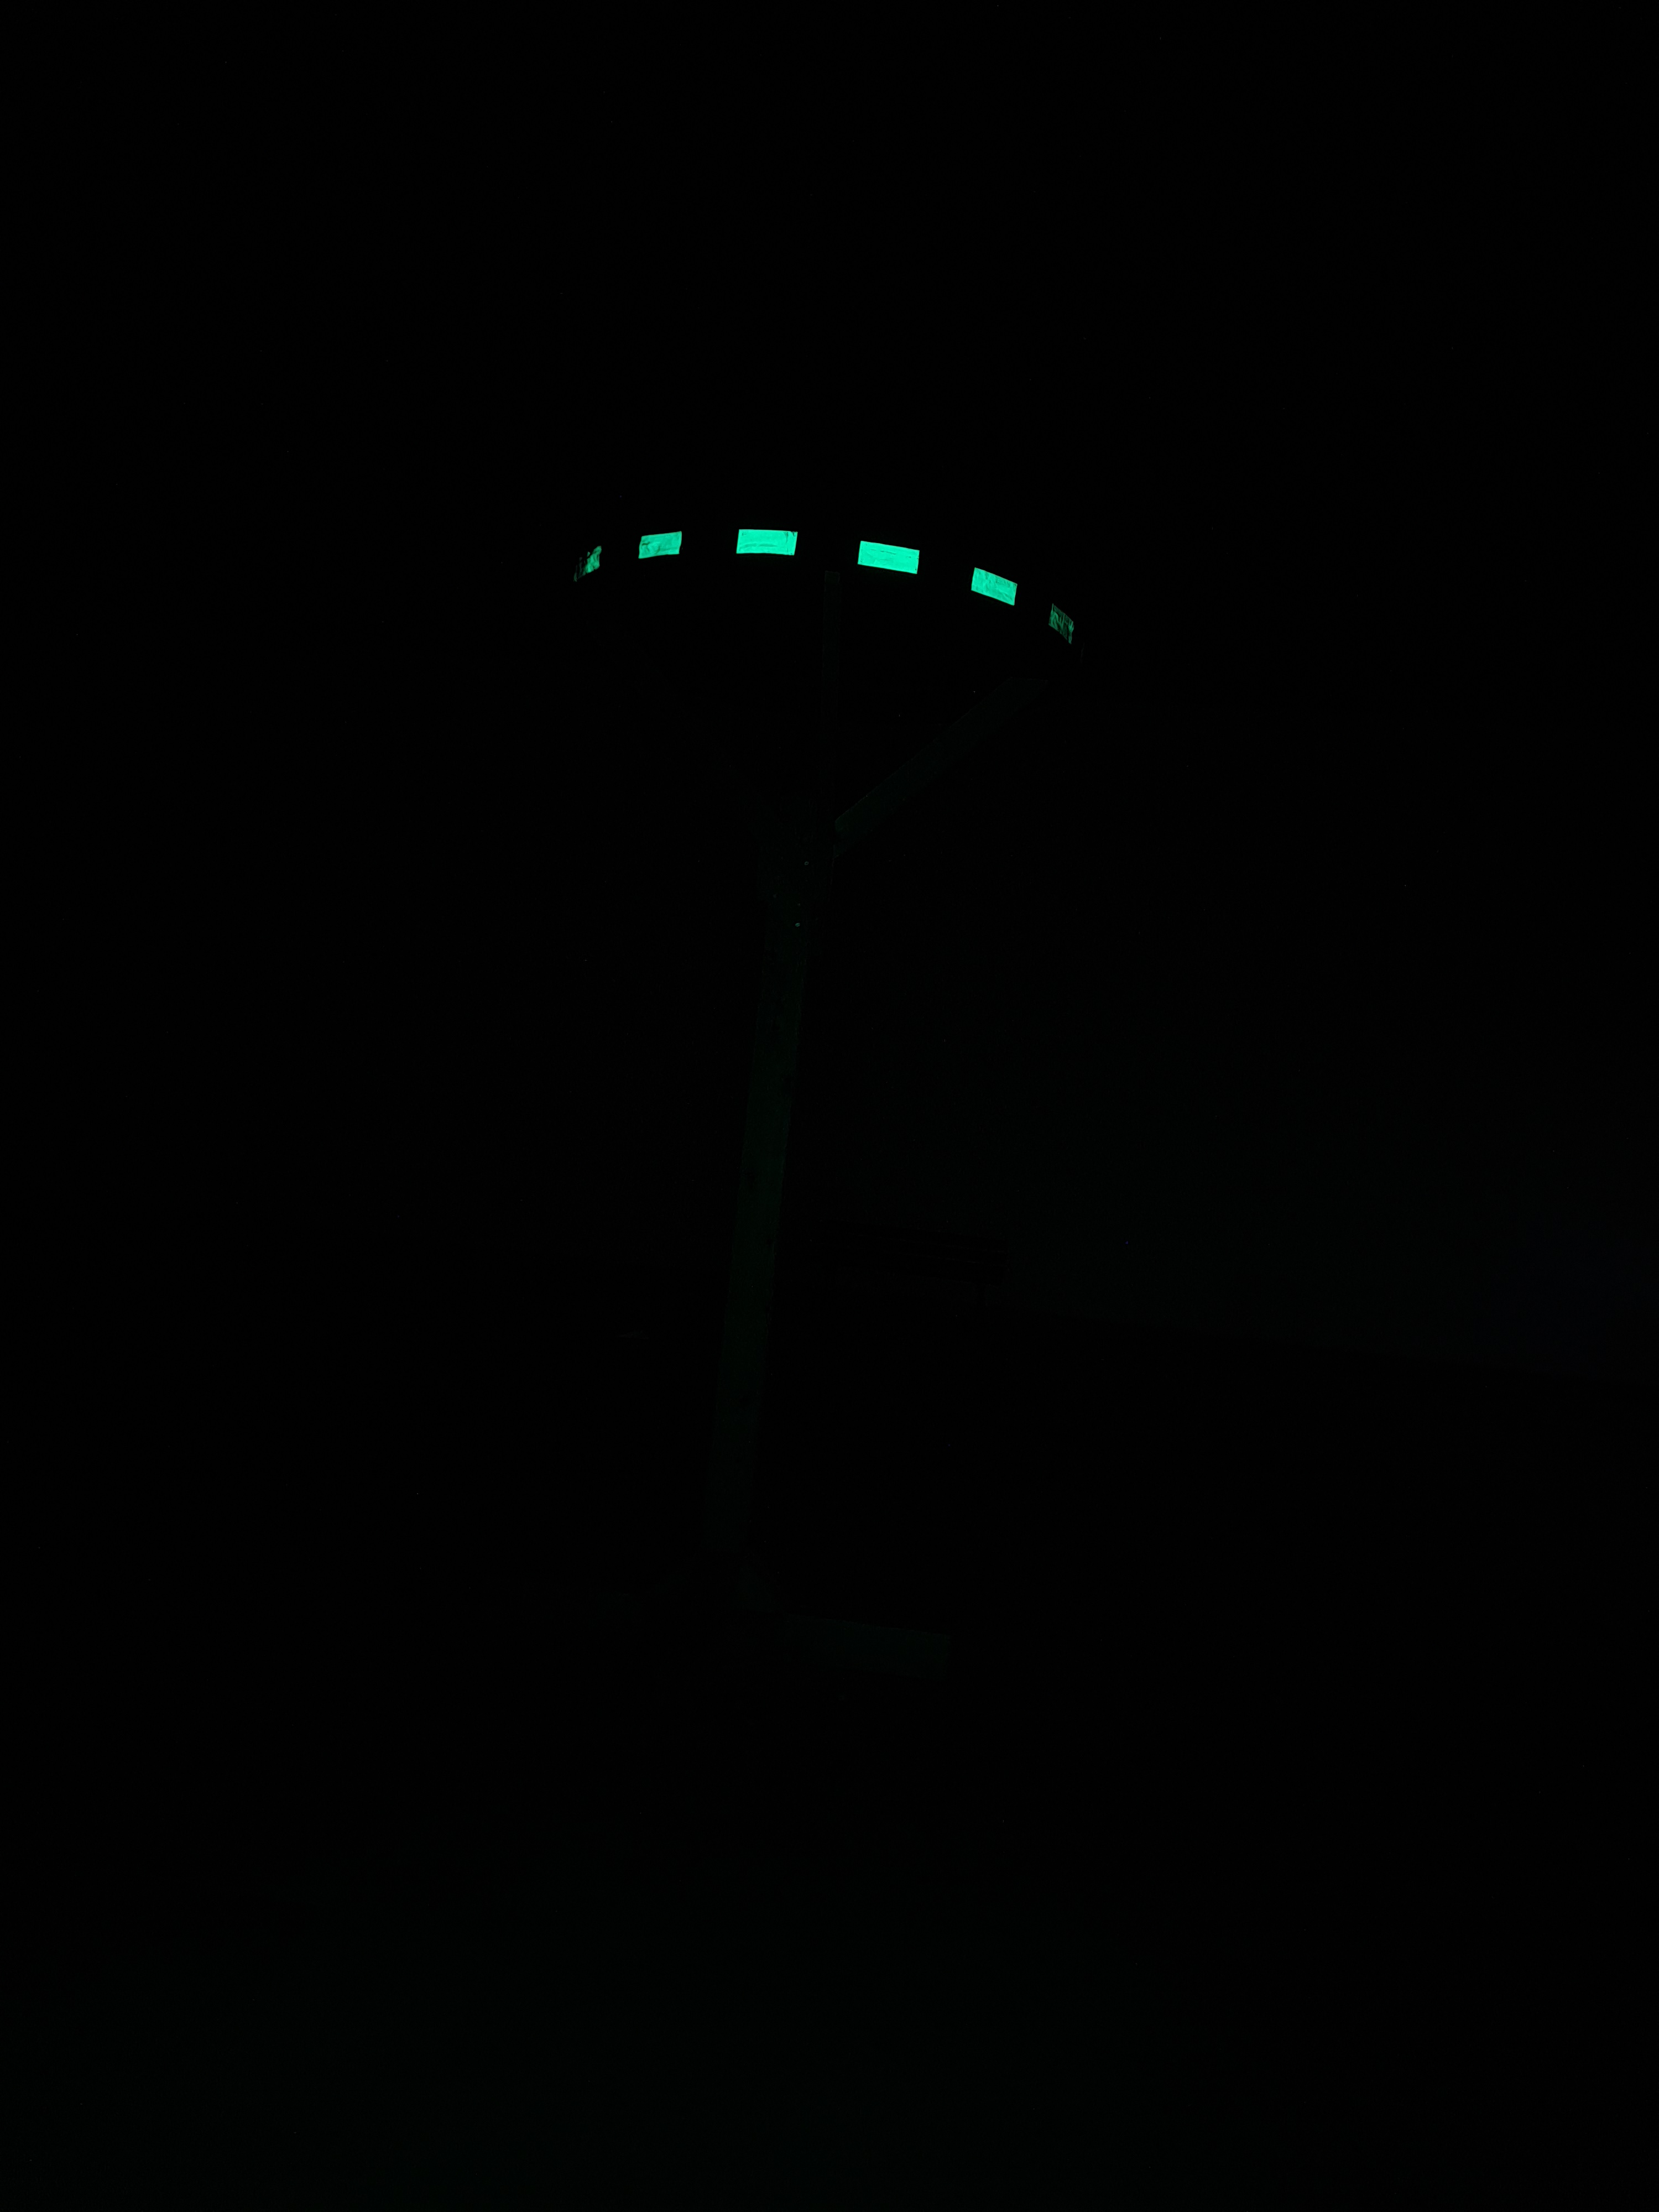hoop: (570, 509, 1077, 657)
